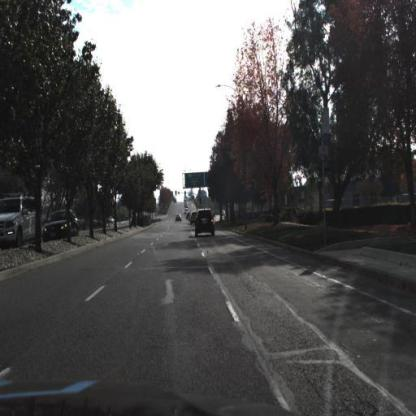car: (1, 196, 45, 257), (43, 209, 79, 245), (195, 210, 215, 238), (192, 211, 197, 227), (175, 214, 182, 224)
